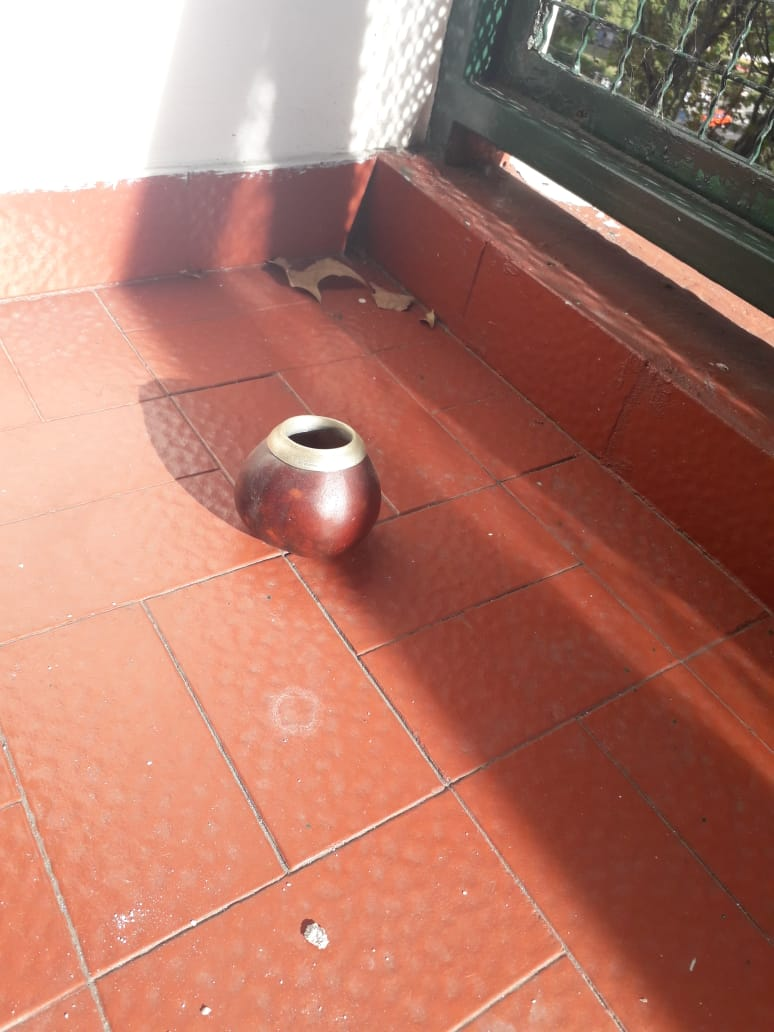calabaza: (230, 410, 383, 559)
mate: (232, 412, 385, 561)
